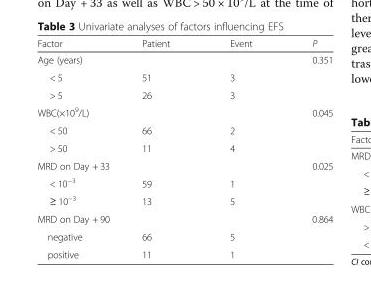table: (36, 37, 332, 259)
table column: (111, 37, 199, 259), (199, 37, 281, 259), (36, 37, 111, 259), (281, 37, 332, 259)
table column header: (36, 37, 332, 51)
table row: (36, 102, 332, 121), (36, 121, 332, 139), (36, 173, 332, 191), (36, 191, 332, 209), (36, 209, 332, 227), (36, 227, 332, 245), (36, 51, 332, 68), (36, 68, 332, 85), (36, 85, 332, 102), (36, 139, 332, 156), (36, 156, 332, 173), (36, 37, 332, 51), (36, 245, 332, 259)
table spanning cell: (36, 102, 281, 121), (36, 209, 281, 227), (36, 51, 281, 68), (36, 156, 281, 173)
